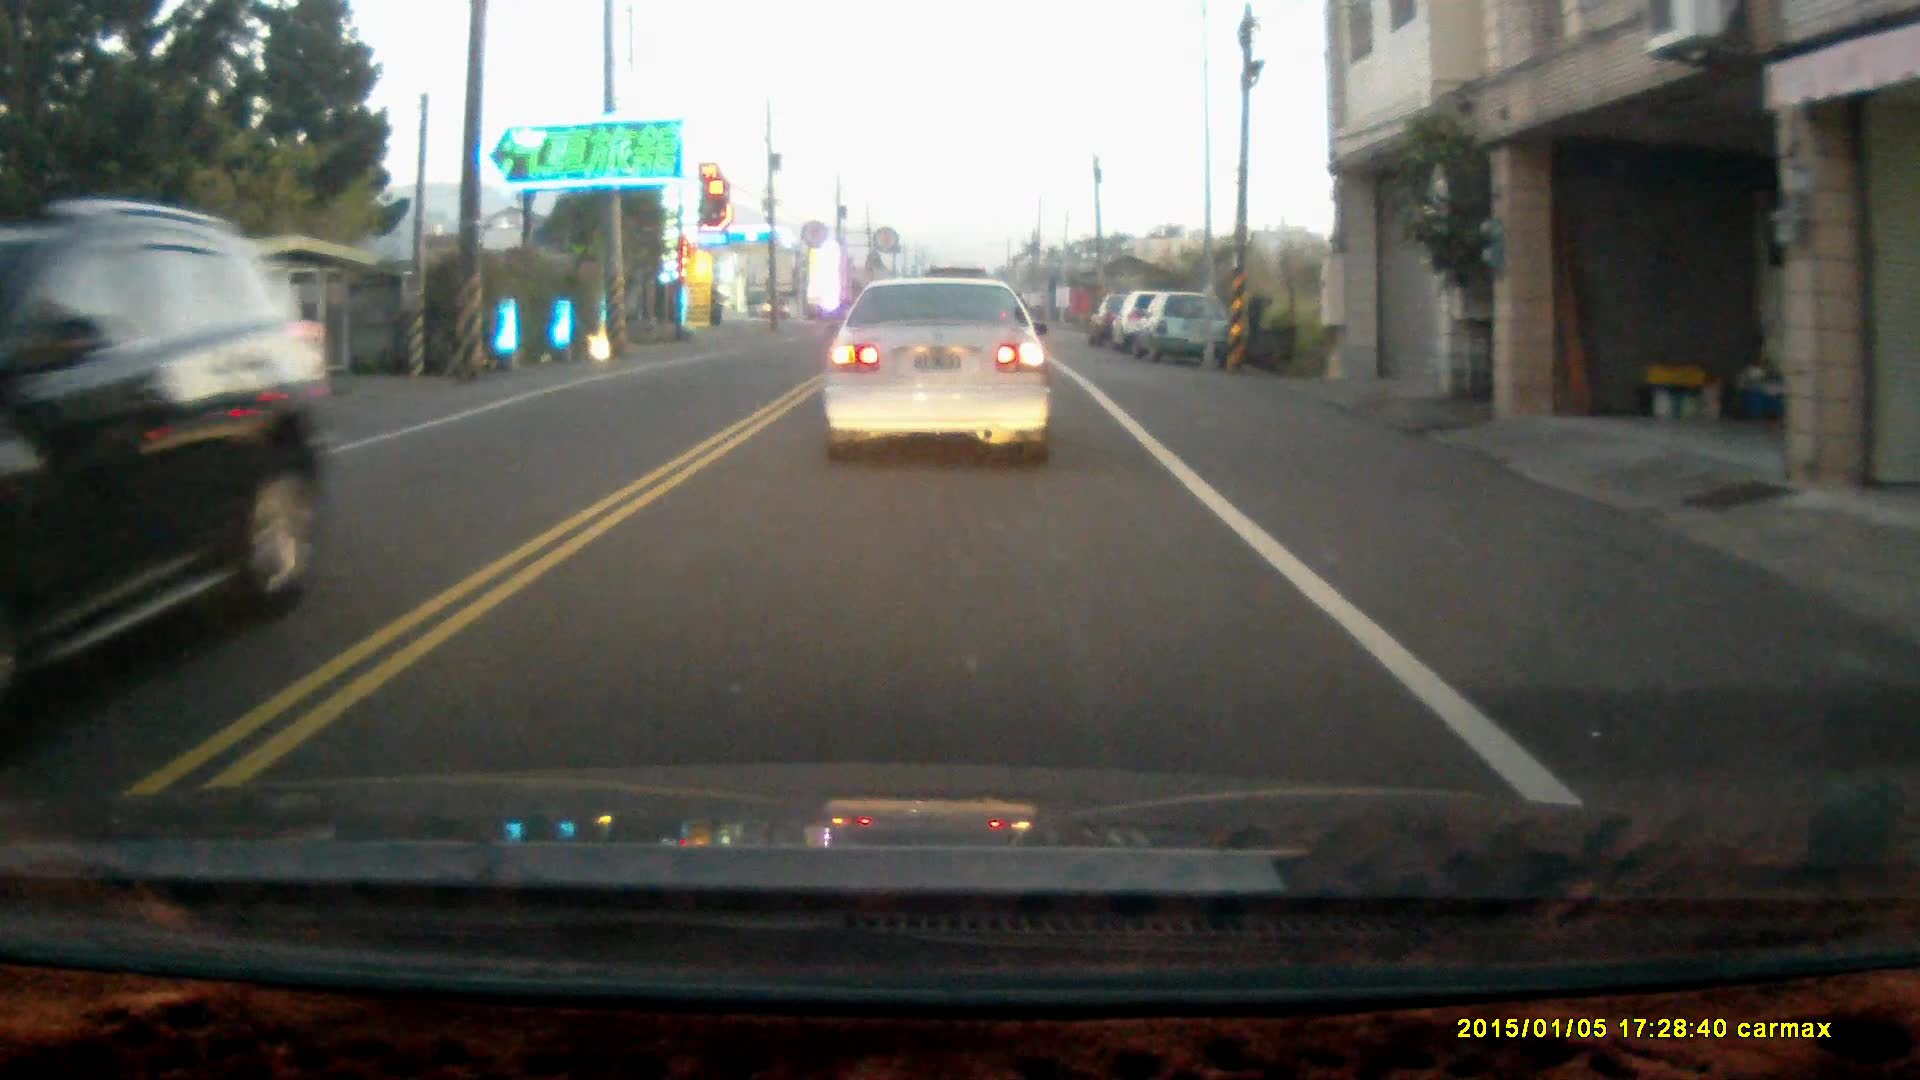vehicle: (1, 200, 332, 717), (819, 276, 1050, 465), (1130, 291, 1229, 365), (1116, 293, 1197, 353)
